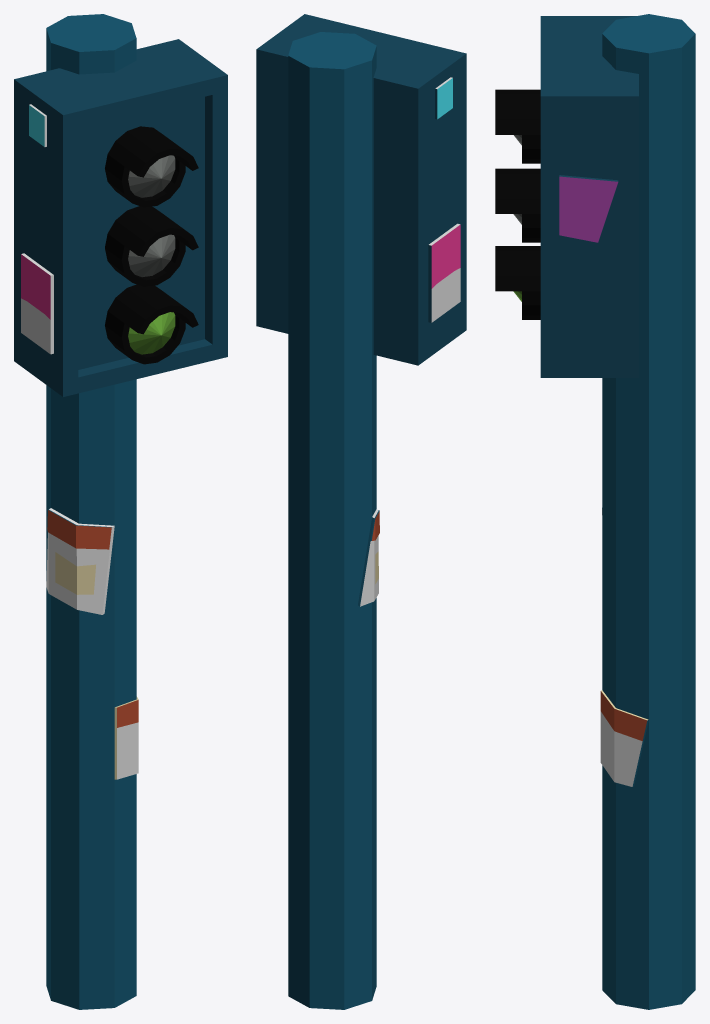
The model's file is semaforoVerde1.fbx.
3 renders of one model, left to right at view 1: azimuth 30°, elevation 25°; view 2: azimuth 150°, elevation 25°; view 3: azimuth 270°, elevation 25°, orthographic.
Parts seen in each view (by area): view 1: semaforo; view 2: semaforo; view 3: semaforo.
Part boxes in pixels (bbox=[...]): semaforo: bbox=[14, 14, 227, 1009]; semaforo: bbox=[256, 14, 466, 1009]; semaforo: bbox=[495, 14, 695, 1009].
Size of the model in its own units: 18.21 by 97.38 by 18.46.
